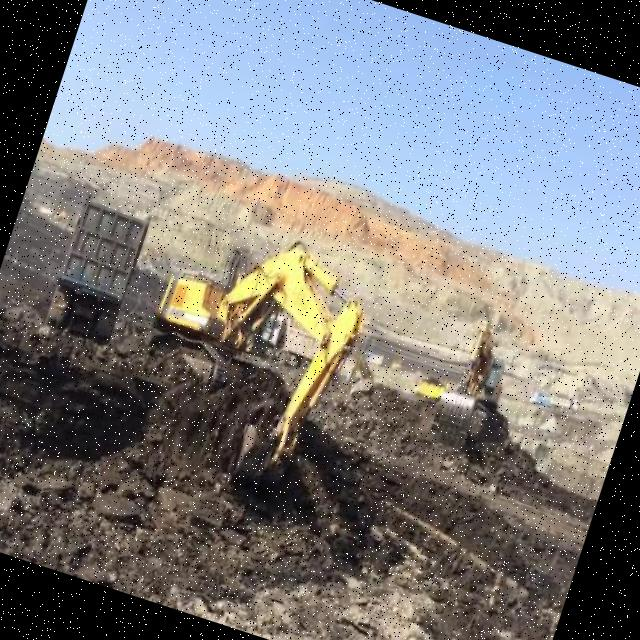Dump Truck: (37, 194, 154, 354)
Excavator: (110, 202, 381, 508), (434, 316, 521, 448)
